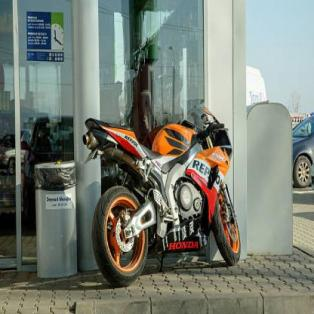Motocicleta: (80, 94, 248, 292)
